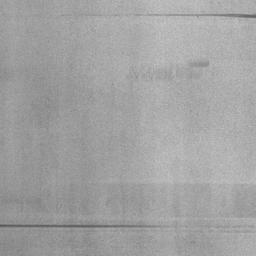Crease: (0, 223, 157, 228), (180, 12, 256, 19), (189, 61, 209, 67)
